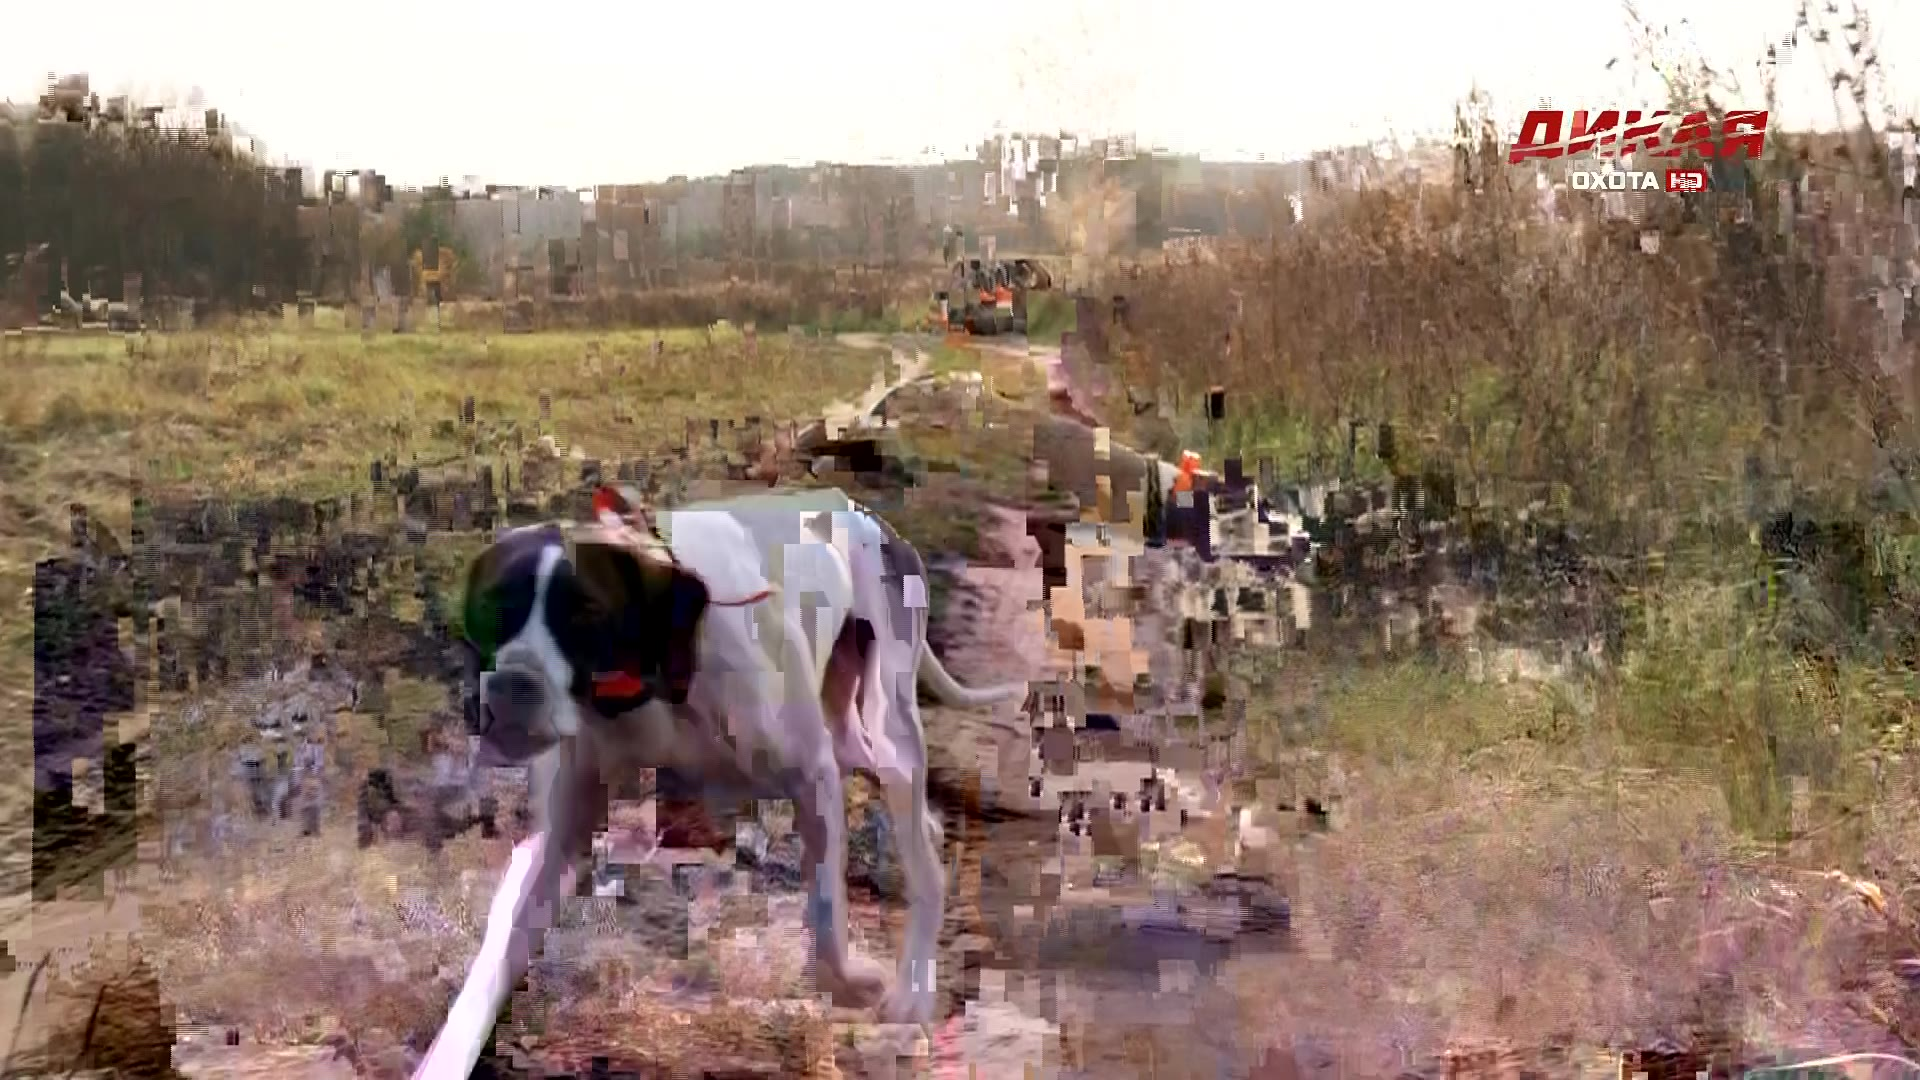Dikaya_Ohota_HD: (1505, 105, 1774, 194)
